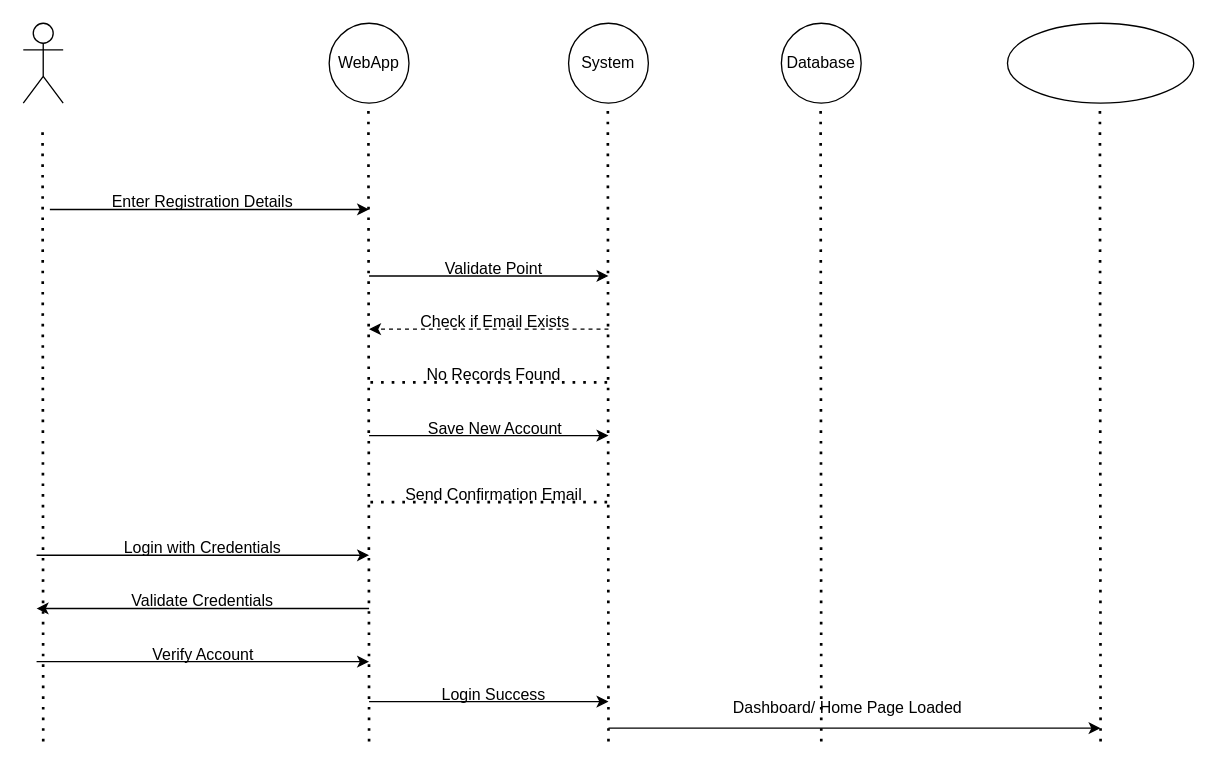
The diagram is 1217 pixels wide and 767 high, and some of its shapes have lost their labels. Here are the shapes that lost their labels. From the top down, the centre of each, then its label:
pixel 42 62: Client
pixel 1100 62: Notification Service
